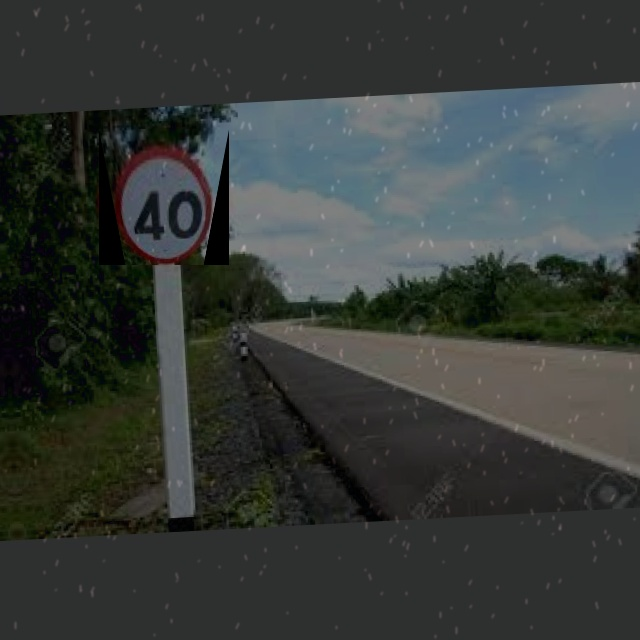Speed_Limit_40: (99, 129, 229, 265)
